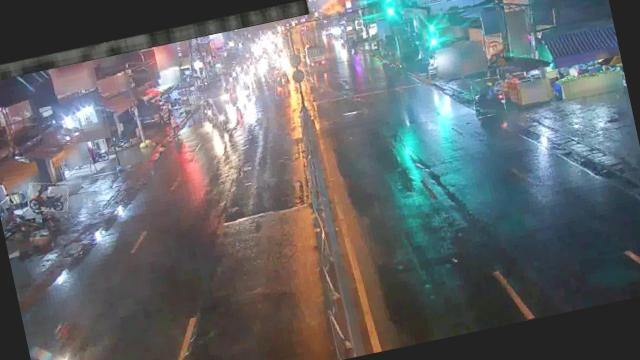Bike: (25, 178, 72, 217), (470, 75, 508, 119), (212, 94, 235, 127), (200, 98, 218, 125), (226, 82, 243, 108), (272, 74, 286, 99)
